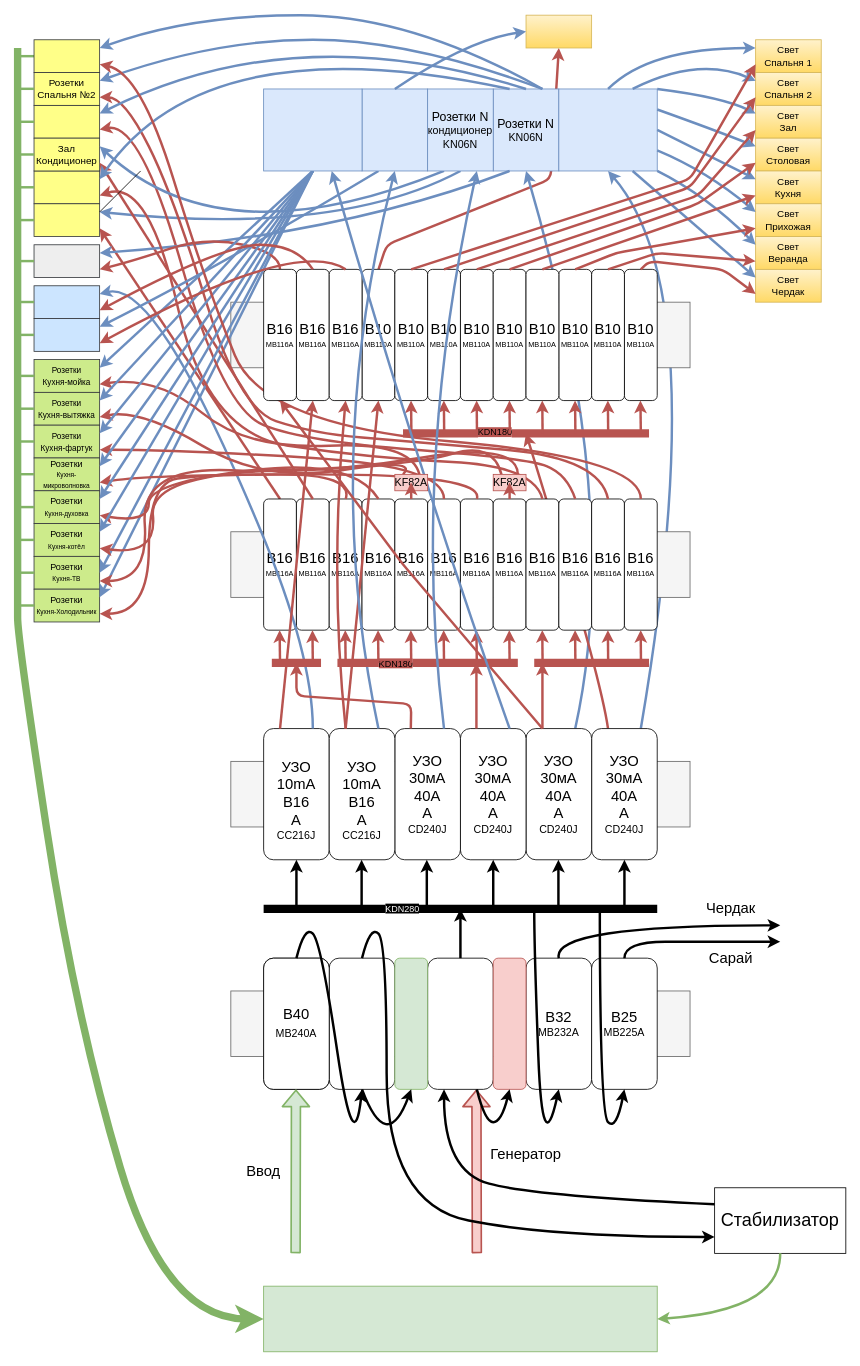
This 860x1366 diagram has some shape labels left out. Each missing label, with the centre of its shape:
I-0-II 40A SFT 240: [460,1023]
PE KN26E: [460,1318]
Розетки N душ KN06N: [394,129]
Розетки N кухня KN10N: [312,129]
Розетки Душ-бойлер: [66,302]
Розетки Душ-стиралка: [66,334]
Розетки Зал: [66,121]
Розетки Прихожая: [66,261]
Розетки Спальня №1: [66,56]
Розетки Столовая: [66,187]
Свет N KN10N: [607,129]
Свет Душ: [558,31]
Столовая Кондиционер: [66,220]
УЗО 300мА 63А А CF263J: [361,1023]
